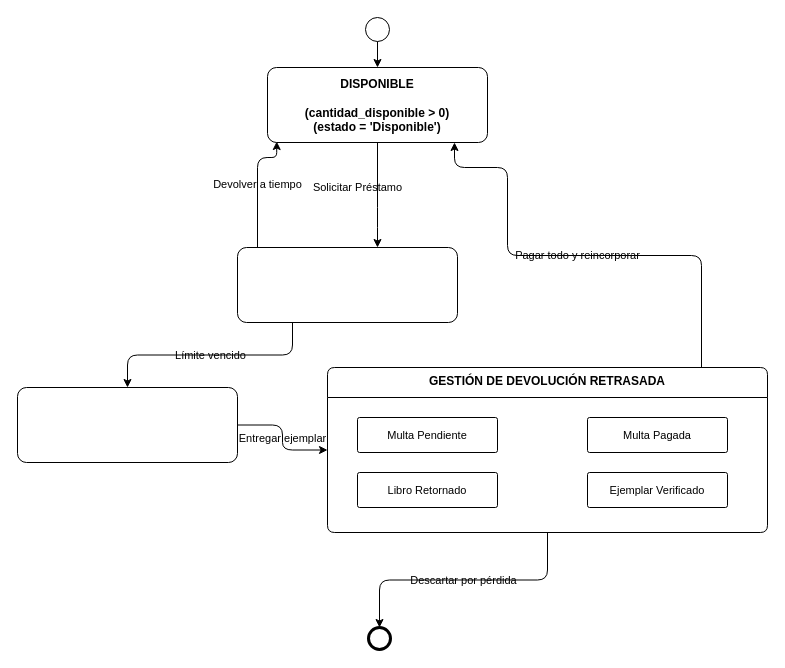
Image size: 785x668. Some labels were removed from this diagram. Each missing label, with the box of its shape:
PRESTADO (En uso por usuario) (fecha_devolucion IS NULL): (236, 246, 458, 322)
RETRASADO (MULTADO) (estado = 'No Disponible') (multas > 0): (16, 386, 238, 462)
